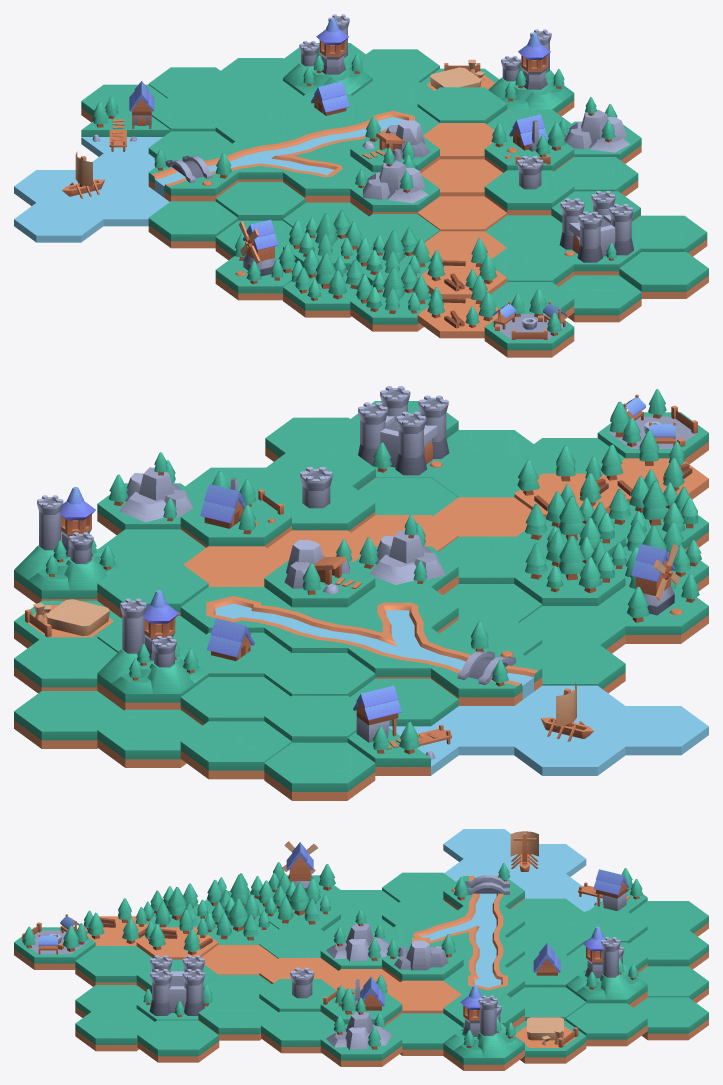
File: wiesdoautek.glb
The picture shows the model from 3 angles, top to bottom: view 1: azimuth 30°, elevation 25°; view 2: azimuth 150°, elevation 25°; view 3: azimuth 270°, elevation 25°; orthographic projection. The views are drawn at different scales.
Parts seen in each view (by area): view 1: RaceTrack; view 2: RaceTrack; view 3: RaceTrack.
Boxes of the visible parts, x1,y1,x2,y2 form: RaceTrack: [14, 14, 708, 357]; RaceTrack: [14, 386, 708, 800]; RaceTrack: [14, 829, 708, 1070].
Bounding box in the file's own units: 8 × 1.35 × 9.81.
22 materials, 22 textured.
